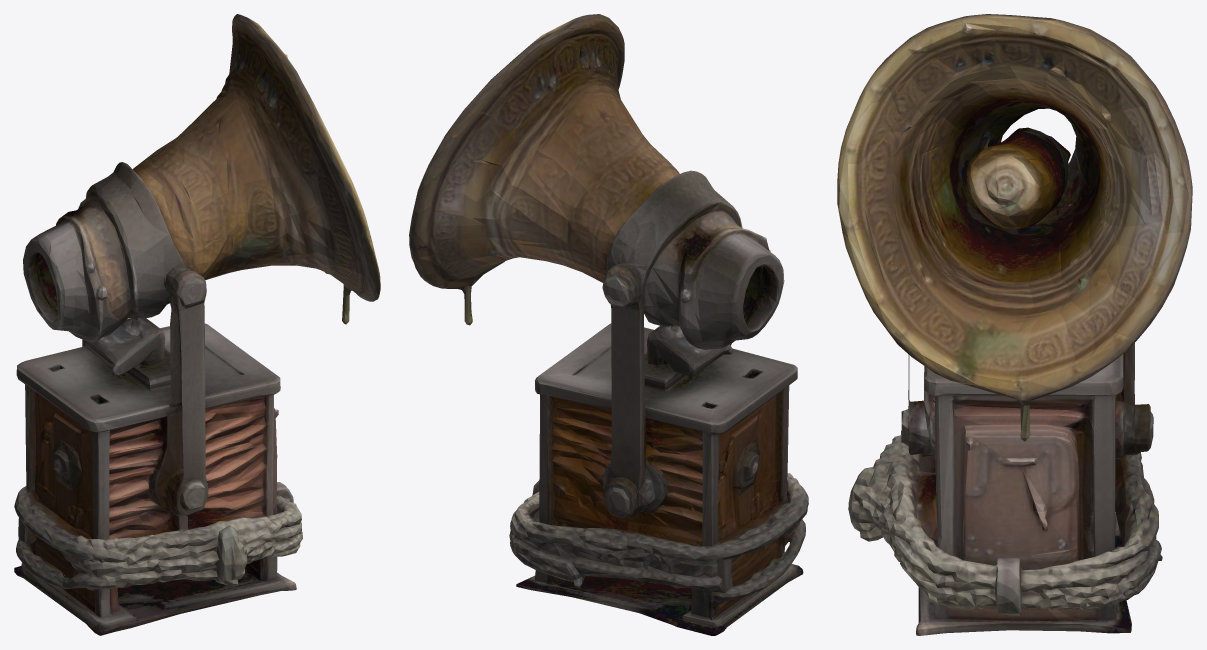
The model's file is bellowsHorn.glb.
3 renders of one model, left to right at view 1: azimuth 30°, elevation 25°; view 2: azimuth 150°, elevation 25°; view 3: azimuth 270°, elevation 25°, orthographic. The views are drawn at different scales.
Visible parts, largest first — view 1: world; view 2: world; view 3: world.
Boxes of the visible parts, box(x1,y1,x2,y2) form: world: box(14, 14, 380, 635); world: box(409, 14, 808, 635); world: box(837, 14, 1192, 635).
Bounding box in the file's own units: 0.637 × 1 × 0.5158.
Materials: 1 (1 with a texture image).
